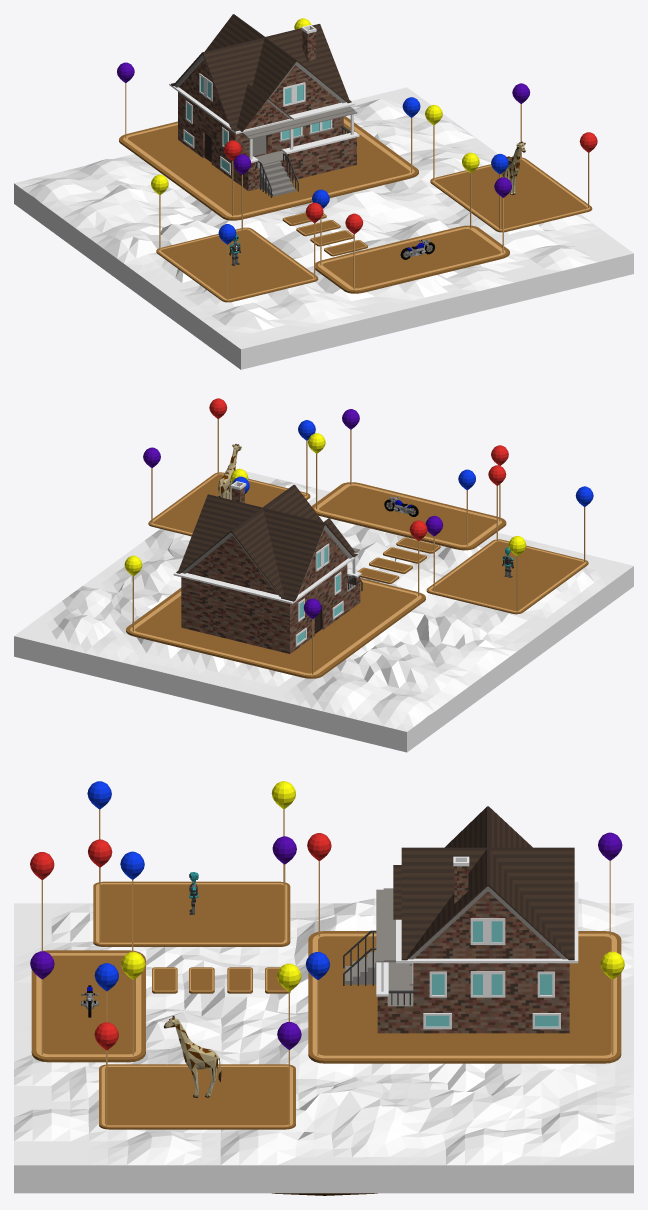
3 renders of one model, top to bottom at view 1: azimuth 30°, elevation 25°; view 2: azimuth 150°, elevation 25°; view 3: azimuth 270°, elevation 25°, orthographic. The views are drawn at different scales.
Parts seen in each view (by area): view 1: Cube.013, Cube.117, ANIMAL_JIRAFA; view 2: Cube.013, Cube.117, ANIMAL_JIRAFA; view 3: Cube.013, Cube.117, ANIMAL_JIRAFA.
Boxes of the visible parts, x1=… form: Cube.013: x1=14, y1=18, x2=633, y2=369; Cube.117: x1=169, y1=14, x2=359, y2=197; ANIMAL_JIRAFA: x1=502, y1=141, x2=525, y2=195; Cube.013: x1=14, y1=398, x2=633, y2=752; Cube.117: x1=173, y1=481, x2=362, y2=653; ANIMAL_JIRAFA: x1=218, y1=444, x2=241, y2=499; Cube.013: x1=14, y1=781, x2=633, y2=1193; Cube.117: x1=343, y1=806, x2=578, y2=1033; ANIMAL_JIRAFA: x1=163, y1=1016, x2=221, y2=1097.
Size of the model in its own units: 4000 by 1754 by 4000.
38 materials, 2 textured.
